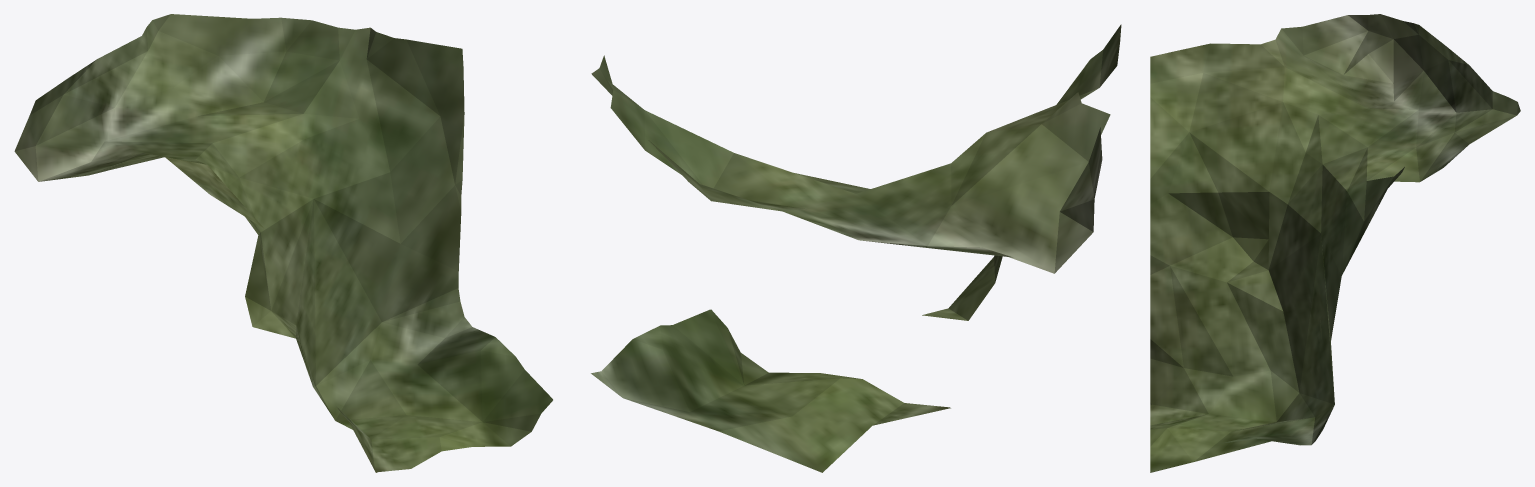
The picture shows the model from 3 angles, left to right: view 1: azimuth 30°, elevation 25°; view 2: azimuth 150°, elevation 25°; view 3: azimuth 270°, elevation 25°; orthographic projection. The views are drawn at different scales.
Bounding box in the file's own units: 1.35 × 1.02 × 1.15.
1 material, 1 textured.
